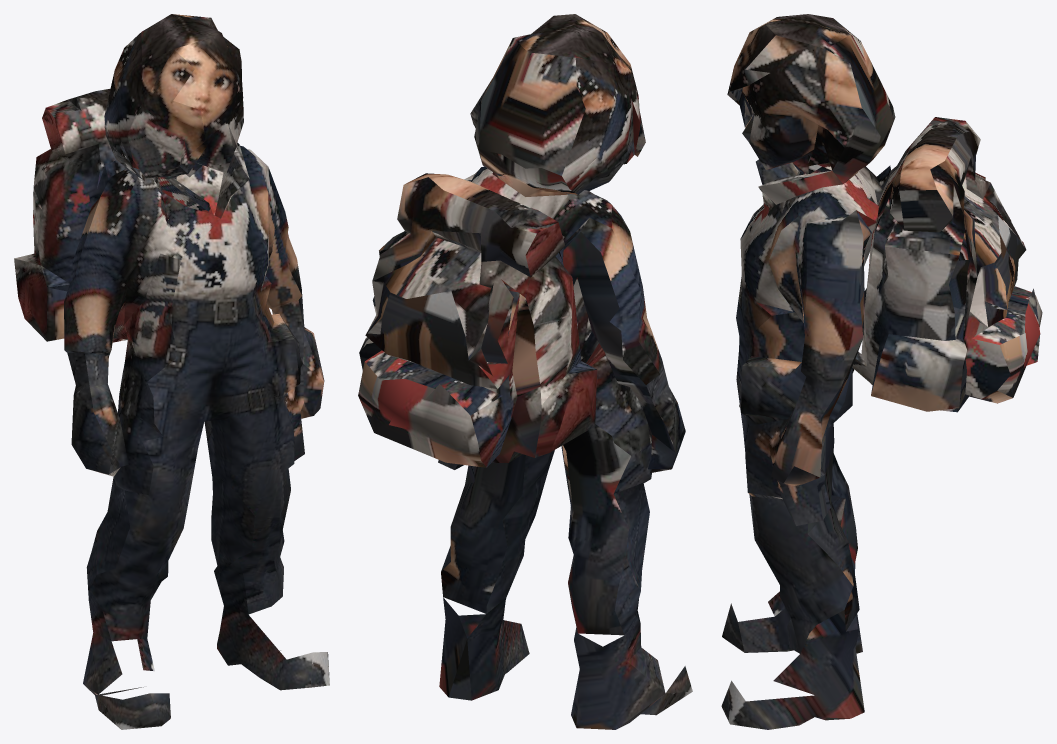
Rendered from medic.glb.
3 views of the same model, side by side, from view 1: azimuth 30°, elevation 25°; view 2: azimuth 150°, elevation 25°; view 3: azimuth 270°, elevation 25° (orthographic). The views are drawn at different scales.
Bounding box in the file's own units: 0.7771 × 1.98 × 0.884.
Materials: 1 (1 with a texture image).
